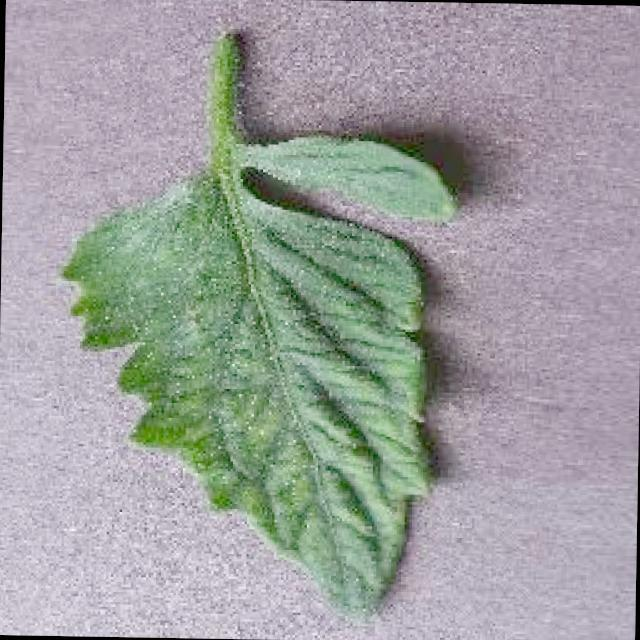Tomato mosaic virus leaf: (56, 128, 458, 626)
